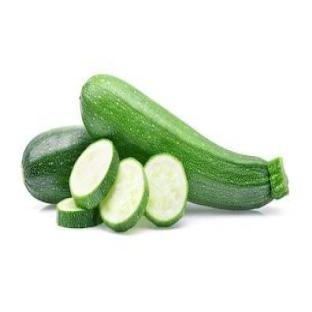Zucchini: (81, 75, 288, 209), (22, 126, 92, 203), (100, 159, 148, 231), (70, 140, 118, 208), (145, 154, 188, 226), (56, 198, 102, 227)
